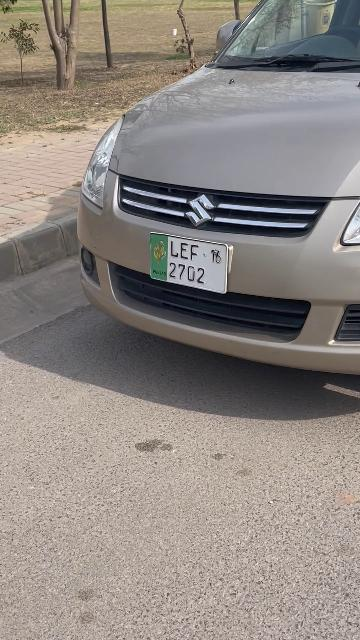plate: (150, 233, 227, 293)
